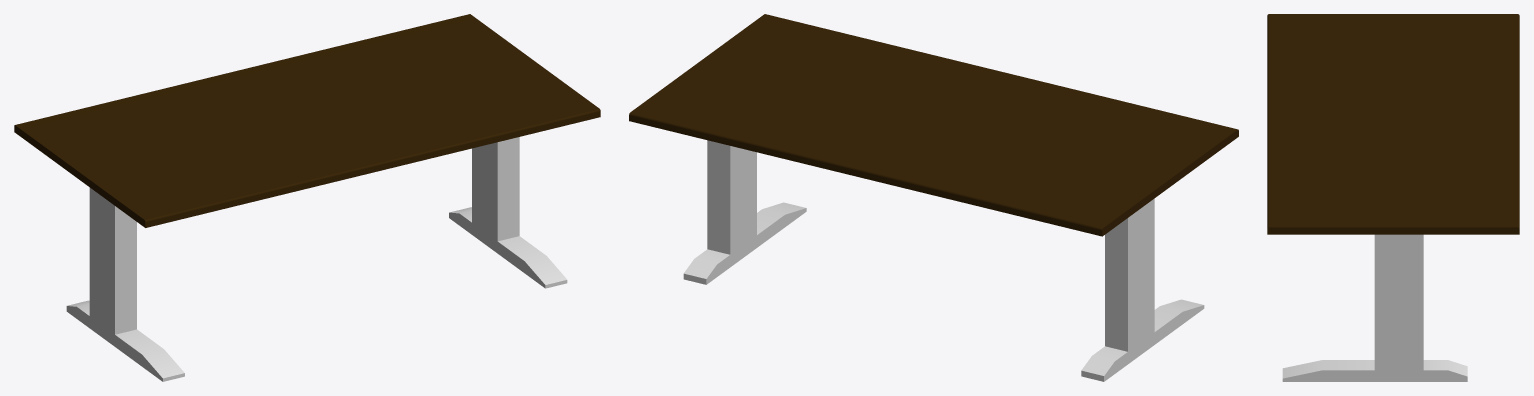
Rendered from Desk (Untextured).fbx.
3 views of the same model, side by side, from view 1: azimuth 30°, elevation 25°; view 2: azimuth 150°, elevation 25°; view 3: azimuth 270°, elevation 25° (orthographic). The views are drawn at different scales.
Visible parts, largest first — view 1: pCube4; view 2: pCube4; view 3: pCube4.
Part boxes in pixels (left/top/right/bottom): pCube4: left=14, top=14, right=600, bottom=381; pCube4: left=629, top=14, right=1238, bottom=381; pCube4: left=1267, top=14, right=1519, bottom=381.
Size of the model in its own units: 17.67 by 6.43 by 8.83.
